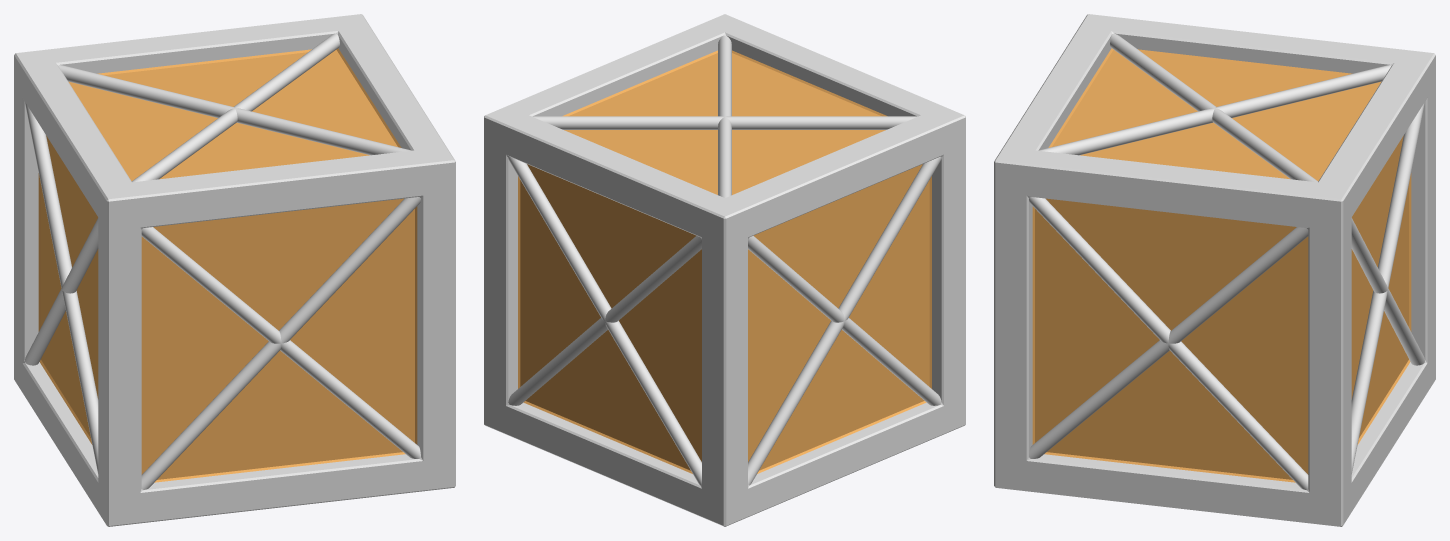
Rendered from Metal box.fbx.
3 views of the same model, side by side, from view 1: azimuth 30°, elevation 25°; view 2: azimuth 150°, elevation 25°; view 3: azimuth 270°, elevation 25° (orthographic). The views are drawn at different scales.
Visible parts, largest first — view 1: Metal box; view 2: Metal box; view 3: Metal box.
Part boxes in pixels (x1=…): Metal box: x1=14, y1=14, x2=455, y2=526; Metal box: x1=484, y1=14, x2=965, y2=526; Metal box: x1=994, y1=14, x2=1435, y2=526.
Size of the model in its own units: 244 by 200 by 244.
